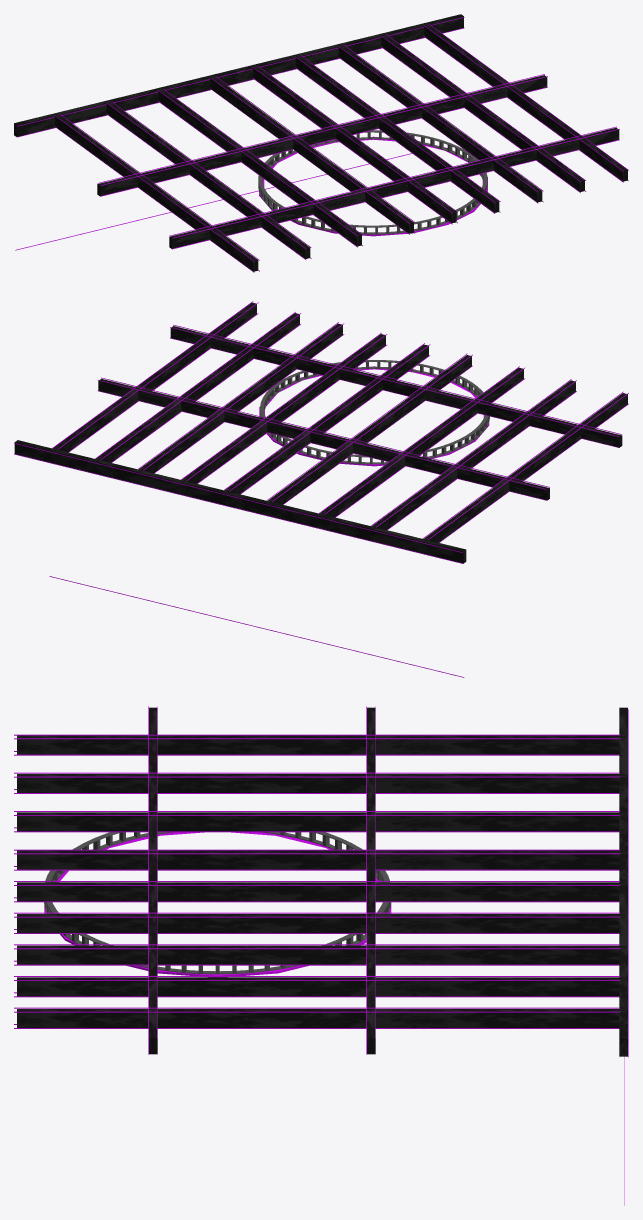
The model's file is ZXM_Cylinder003V1.fbx.
The picture shows the model from 3 angles, top to bottom: view 1: azimuth 30°, elevation 25°; view 2: azimuth 150°, elevation 25°; view 3: azimuth 270°, elevation 25°; orthographic projection. The views are drawn at different scales.
Visible parts, largest first — view 1: Cube__16_1; view 2: Cube__16_1; view 3: Cube__16_1.
Part boxes in pixels (<box>): Cube__16_1: <box>14,14,628,272</box>; Cube__16_1: <box>14,301,628,677</box>; Cube__16_1: <box>14,706,628,1205</box>.
Size of the model in its own units: 90.02 by 24.52 by 70.65.
1 material, 1 textured.
